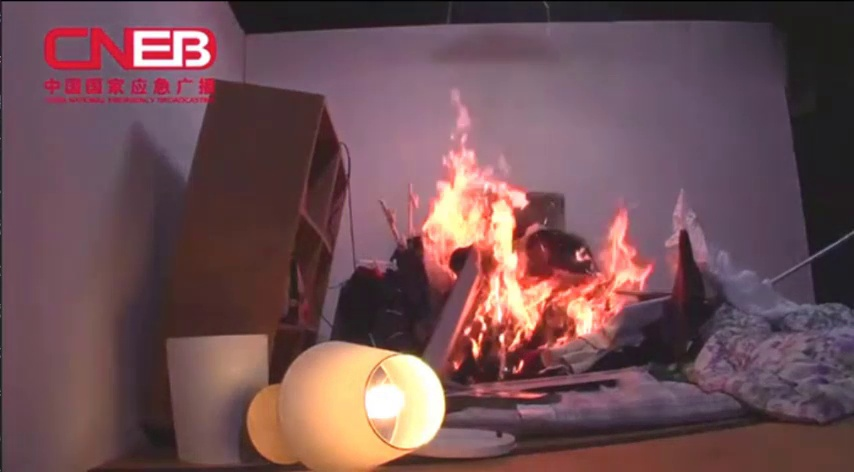fire: (381, 82, 658, 380)
